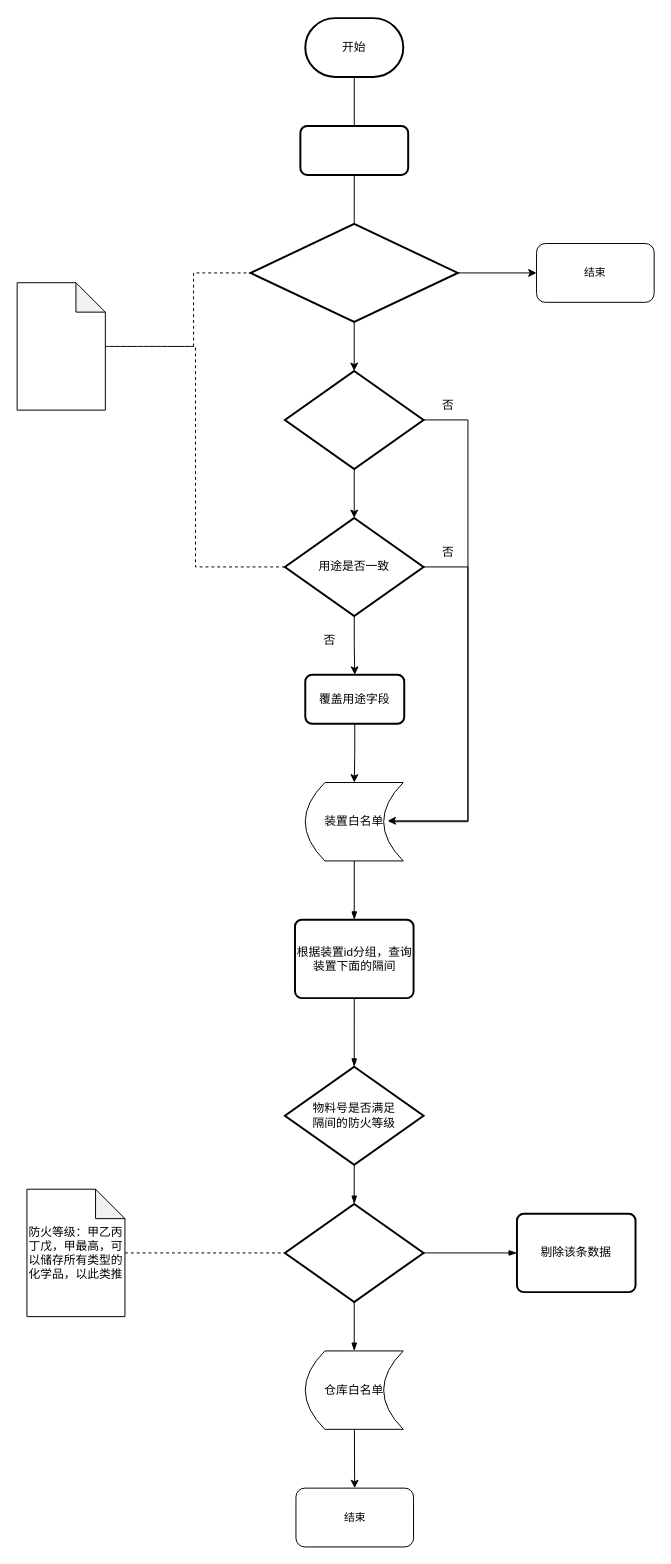
The diagram is 671 pixels wide and 1564 high, and some of its shapes have lost their labels. Here are the shapes that lost their labels. From the top down, the box of each, then its label:
(299, 124, 409, 175): 获取excel的装置code、用途、物料号数据
(249, 222, 458, 322): 校验装置code是否存在、 用途是否填写准确 物料号是否存在
(16, 282, 105, 410): 用途字典：内部原辅料、产品、中间产品、外购原辅料、副产品
(283, 369, 424, 469): 数据库是否存在 相同装置id和物料号的数据
(283, 1202, 424, 1302): 仓库白名单是否存在
